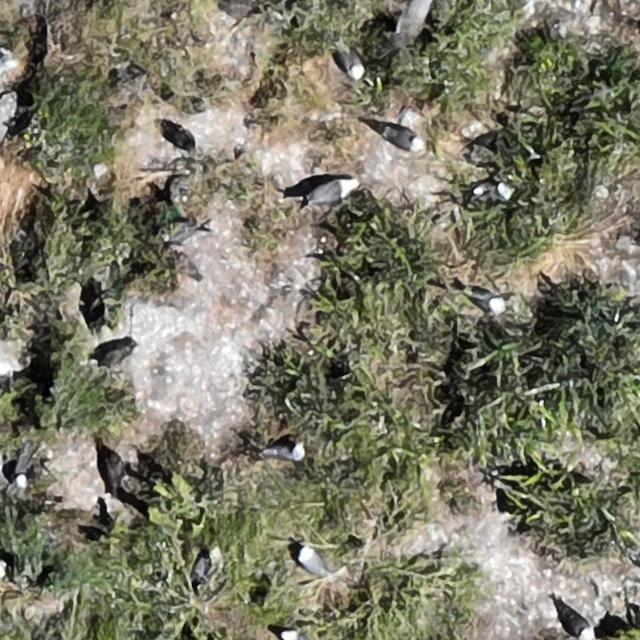umineko: (298, 178, 359, 208), (561, 608, 592, 638), (383, 128, 422, 149), (298, 547, 326, 576), (339, 48, 363, 78), (468, 291, 502, 311), (262, 444, 302, 461), (474, 183, 509, 202), (15, 461, 30, 489)
